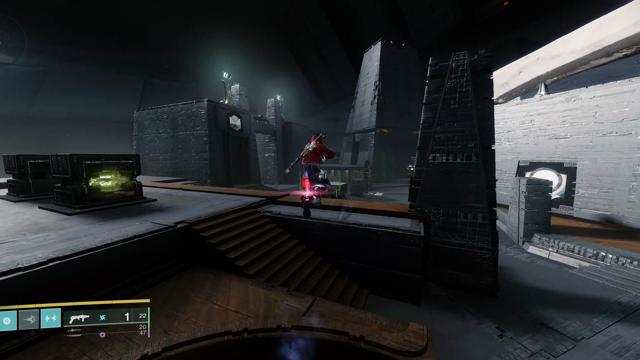commune: (230, 116, 241, 130)
traveler: (525, 168, 566, 200)
